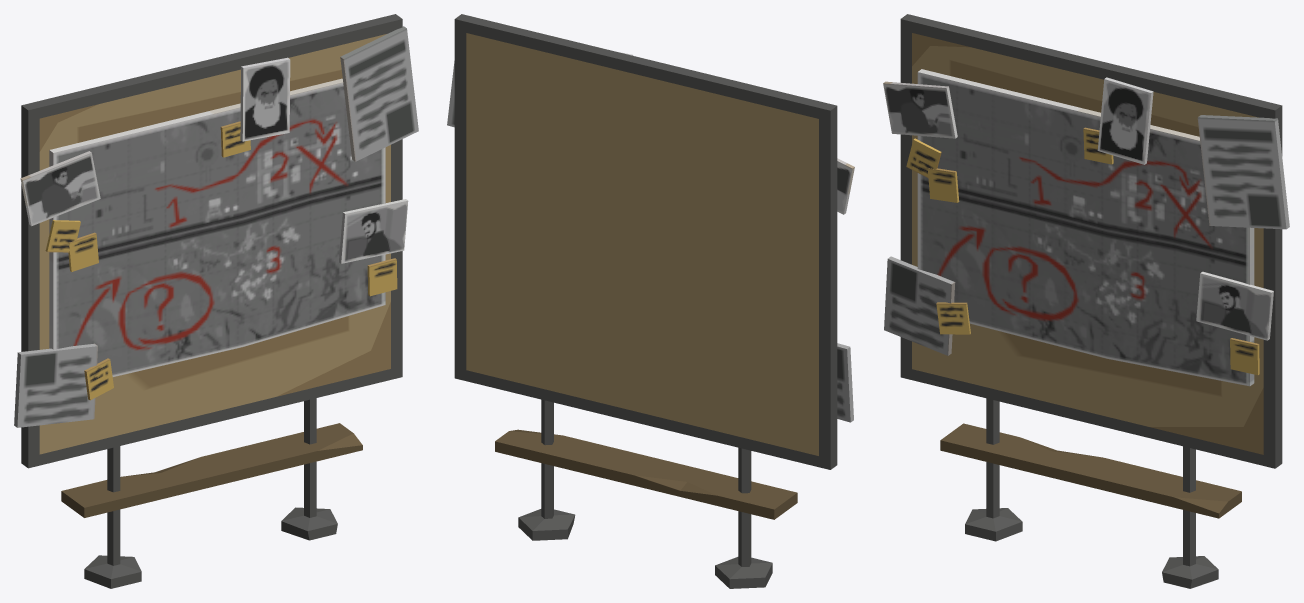
File: SM_Prop_Briefing_Board_01.glb
3 renders of one model, left to right at view 1: azimuth 30°, elevation 25°; view 2: azimuth 150°, elevation 25°; view 3: azimuth 330°, elevation 25°, orthographic.
Parts seen in each view (by area): view 1: SM_Prop_Briefing_Board_01; view 2: SM_Prop_Briefing_Board_01; view 3: SM_Prop_Briefing_Board_01.
Part boxes in pixels (x1,y1,x2,y2): SM_Prop_Briefing_Board_01: (14, 14, 418, 588); SM_Prop_Briefing_Board_01: (447, 14, 854, 588); SM_Prop_Briefing_Board_01: (883, 14, 1289, 588).
Size of the model in its own units: 1.82 by 2.12 by 0.2316.
1 material, 1 textured.
